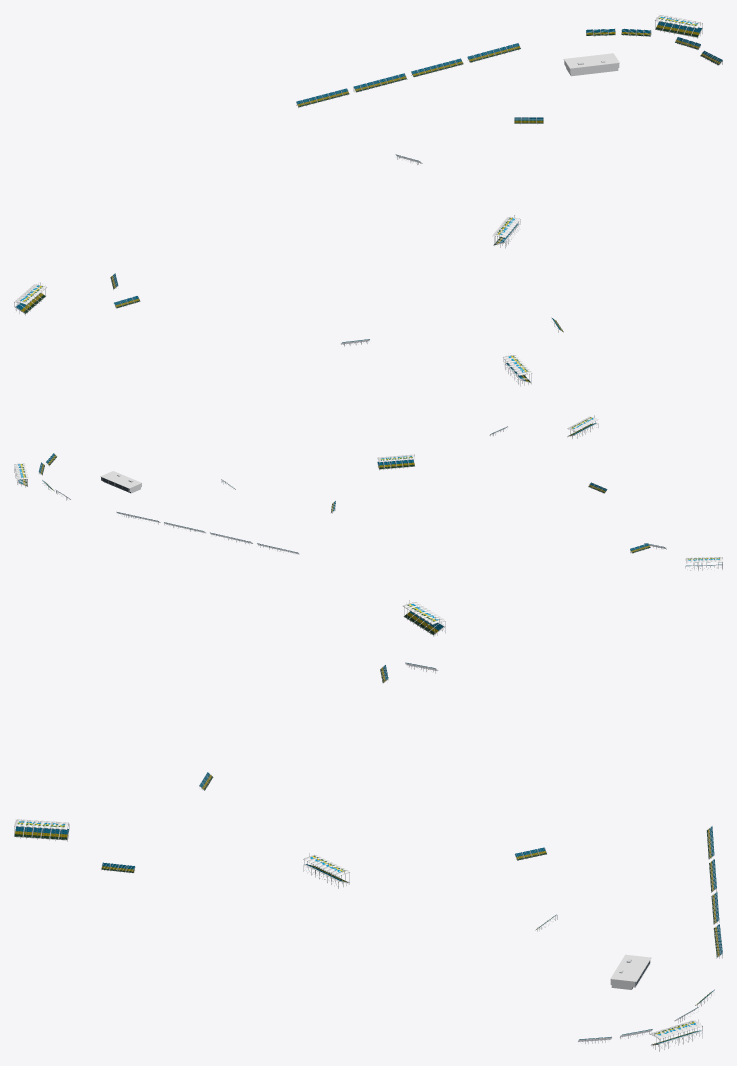
File: stands.glb
3 renders of one model, top to bottom at view 1: azimuth 30°, elevation 25°; view 2: azimuth 150°, elevation 25°; view 3: azimuth 270°, elevation 25°, orthographic. The views are drawn at different scales.
Visible parts, largest first — view 1: Scenery_MediaCentre, Scenery_Grandstand_01; view 2: Scenery_MediaCentre, Scenery_Grandstand_04, Scenery_Grandstand_02, Scenery_Grandstand_05, Scenery_Grandstand_01; view 3: Scenery_Grandstand_02, Scenery_MediaCentre, Scenery_Grandstand_05, Scenery_Grandstand_01, Scenery_Grandstand_04.
Part boxes in pixels (x1=…): Scenery_MediaCentre: x1=563, y1=53, x2=619, y2=76; Scenery_Grandstand_01: x1=655, y1=15, x2=702, y2=38; Scenery_MediaCentre: x1=100, y1=471, x2=141, y2=493; Scenery_Grandstand_04: x1=377, y1=454, x2=415, y2=470; Scenery_Grandstand_02: x1=567, y1=415, x2=598, y2=438; Scenery_Grandstand_05: x1=685, y1=557, x2=722, y2=570; Scenery_Grandstand_01: x1=14, y1=463, x2=28, y2=487; Scenery_Grandstand_02: x1=14, y1=819, x2=69, y2=841; Scenery_MediaCentre: x1=610, y1=954, x2=651, y2=989; Scenery_Grandstand_05: x1=403, y1=600, x2=445, y2=636; Scenery_Grandstand_01: x1=650, y1=1019, x2=702, y2=1051; Scenery_Grandstand_04: x1=303, y1=853, x2=350, y2=888.
Bounding box in the file's own units: 1492 × 88.55 × 1002.
Materials: 8 (4 with a texture image).
